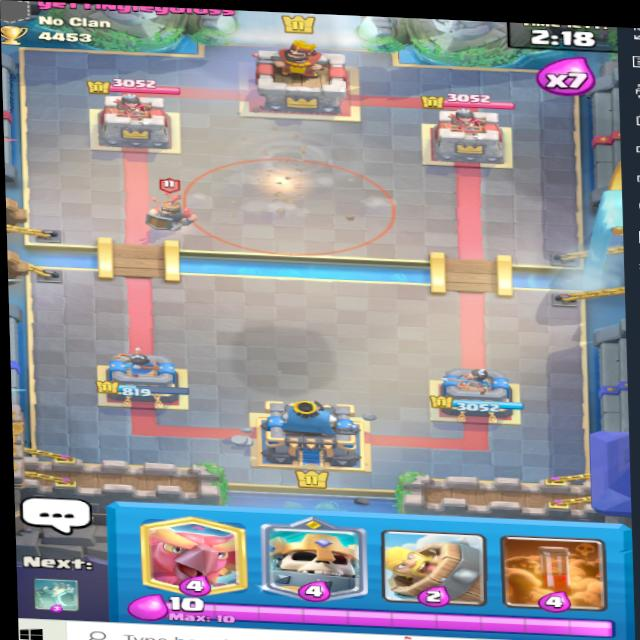earthquake: (182, 152, 403, 260)
royal-recruits: (146, 179, 204, 235)
tornado: (206, 121, 397, 223)
